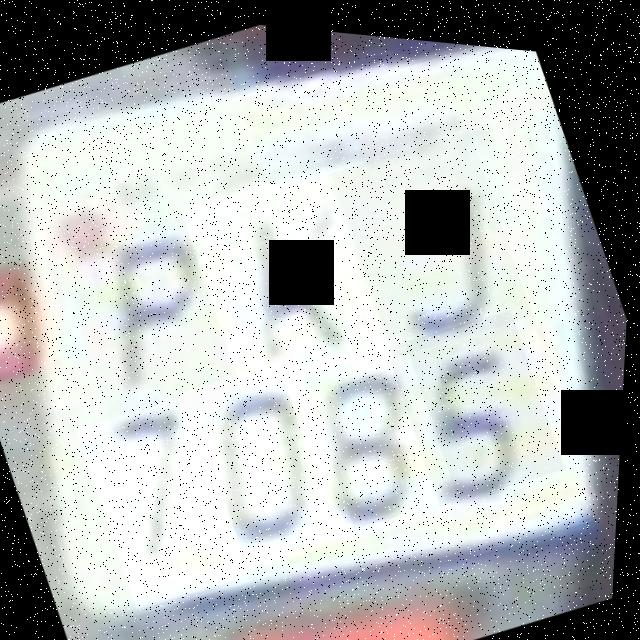0: (173, 342, 370, 577)
5: (383, 290, 575, 506)
7: (73, 382, 263, 614)
8: (278, 317, 473, 546)
J: (325, 111, 543, 359)
N: (175, 148, 398, 400)
P: (49, 200, 254, 440)
